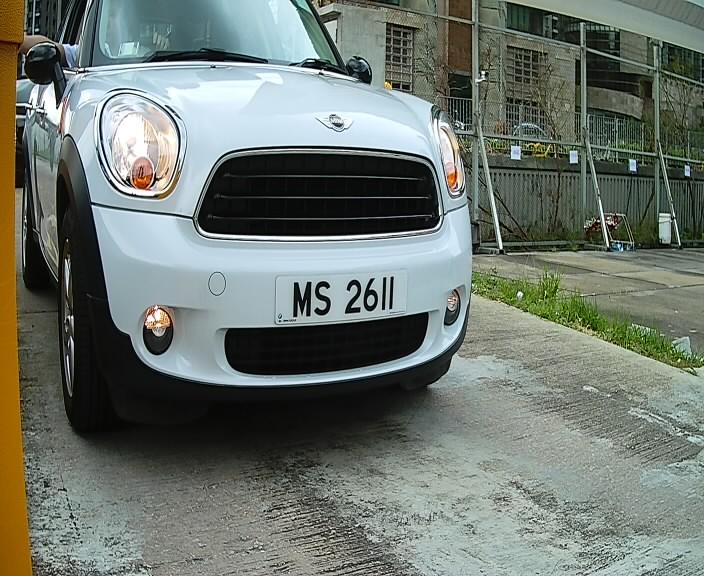Car: (17, 2, 513, 442)
License Plate: (268, 265, 413, 329)
